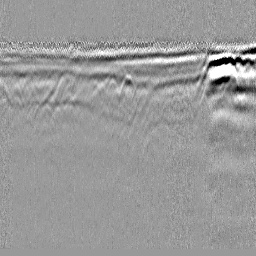cavity: (117, 70, 137, 101)
